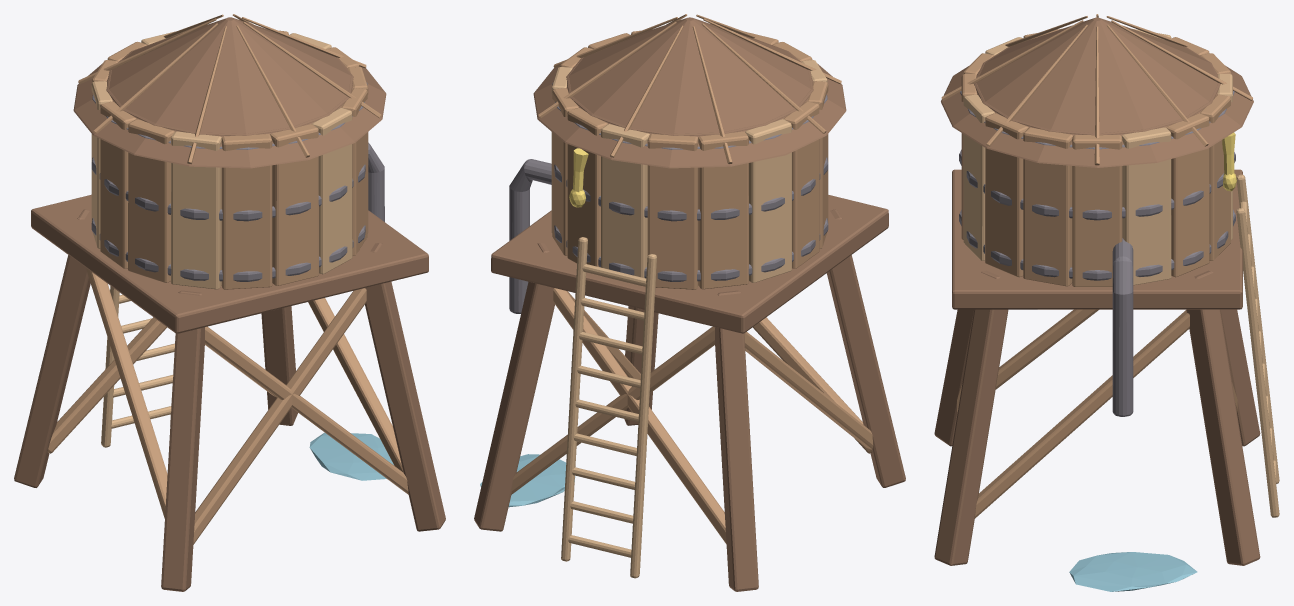
Rendered from Kit_LM_WaterTower.fbx.
The picture shows the model from 3 angles, left to right: view 1: azimuth 30°, elevation 25°; view 2: azimuth 150°, elevation 25°; view 3: azimuth 270°, elevation 25°; orthographic projection.
Parts seen in each view (by area): view 1: Kit_LM_WaterTower; view 2: Kit_LM_WaterTower; view 3: Kit_LM_WaterTower.
Part boxes in pixels (box(x1,y1,x2,y2)): Kit_LM_WaterTower: box(14, 14, 445, 591); Kit_LM_WaterTower: box(474, 14, 905, 591); Kit_LM_WaterTower: box(934, 14, 1279, 591).
Bounding box in the file's own units: 3.25 × 4.6 × 2.96.
